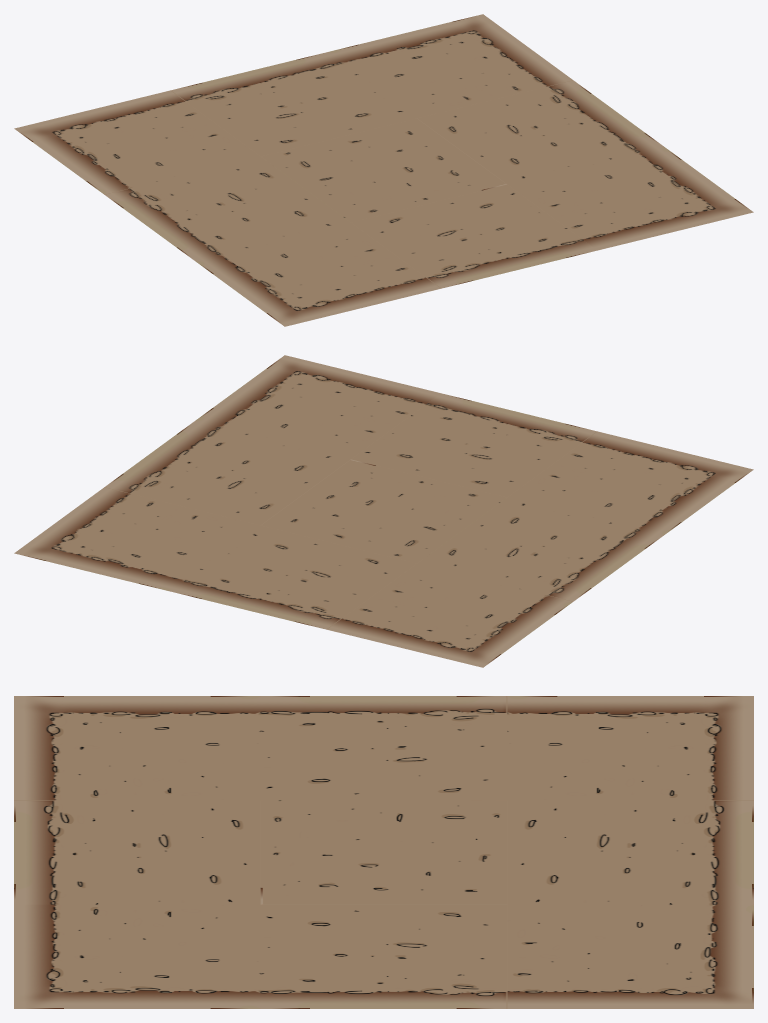
File: SM_RockGround_3x3.fbx
3 renders of one model, top to bottom at view 1: azimuth 30°, elevation 25°; view 2: azimuth 150°, elevation 25°; view 3: azimuth 270°, elevation 25°, orthographic. The views are drawn at different scales.
Visible parts, largest first — view 1: SM_RockGround_3x3; view 2: SM_RockGround_3x3; view 3: SM_RockGround_3x3.
Part boxes in pixels (left/top/right/bottom): SM_RockGround_3x3: left=14, top=14, right=753, bottom=326; SM_RockGround_3x3: left=14, top=355, right=753, bottom=667; SM_RockGround_3x3: left=14, top=696, right=753, bottom=1008.
Size of the model in its own units: 1800 by 3.81e-06 by 1800.
Materials: 1 (1 with a texture image).
